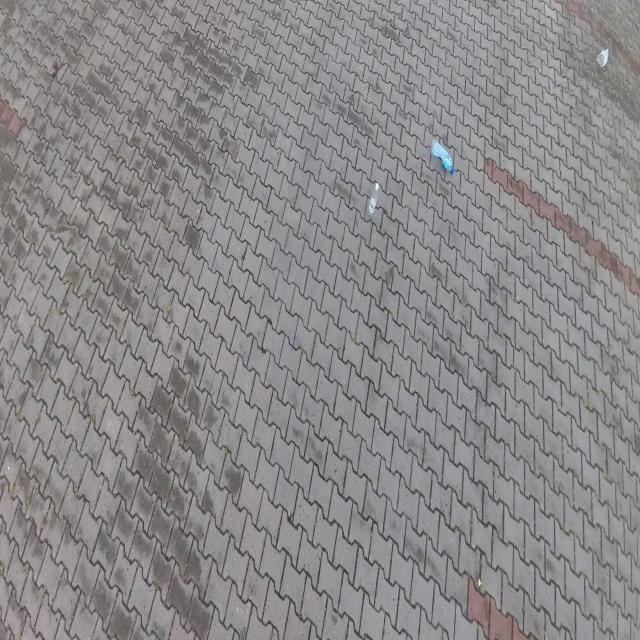rubbish: (431, 138, 455, 174), (368, 183, 378, 219), (595, 49, 609, 70)
